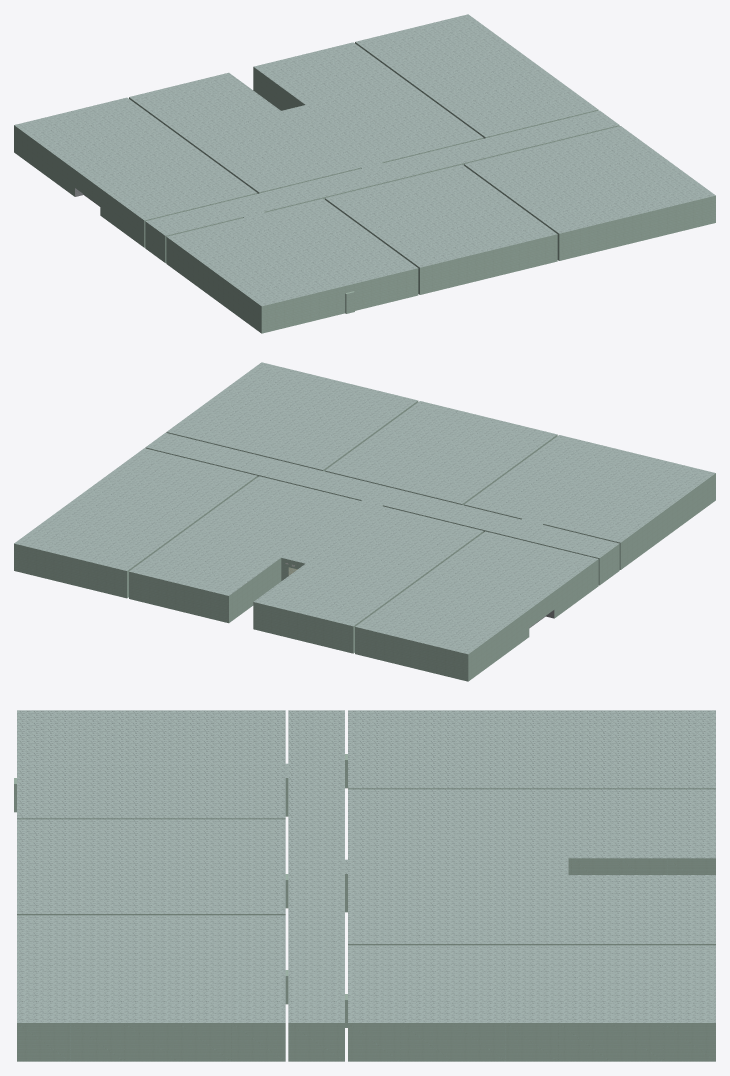
Rendered from gbi_B1_3.glb.
The picture shows the model from 3 angles, top to bottom: view 1: azimuth 30°, elevation 25°; view 2: azimuth 150°, elevation 25°; view 3: azimuth 270°, elevation 25°; orthographic projection. The views are drawn at different scales.
Visible parts, largest first — view 1: M_D_ceil_B1, M_D_wall_B1, M_GBI_kit; view 2: M_D_ceil_B1, M_D_wall_B1, M_GBI_kit; view 3: M_D_ceil_B1, M_D_wall_B1, M_GBI_kit.
Boxes of the visible parts, <box> form: M_D_ceil_B1: <box>14,14,715,306</box>; M_D_wall_B1: <box>14,42,715,333</box>; M_GBI_kit: <box>253,67,304,110</box>; M_D_ceil_B1: <box>14,362,715,654</box>; M_D_wall_B1: <box>14,401,715,681</box>; M_GBI_kit: <box>229,558,304,622</box>; M_D_ceil_B1: <box>17,710,715,1022</box>; M_D_wall_B1: <box>14,754,715,1061</box>; M_GBI_kit: <box>568,858,715,874</box>.
Size of the model in its own units: 52.2 by 3 by 49.5.
16 materials, 6 textured.
